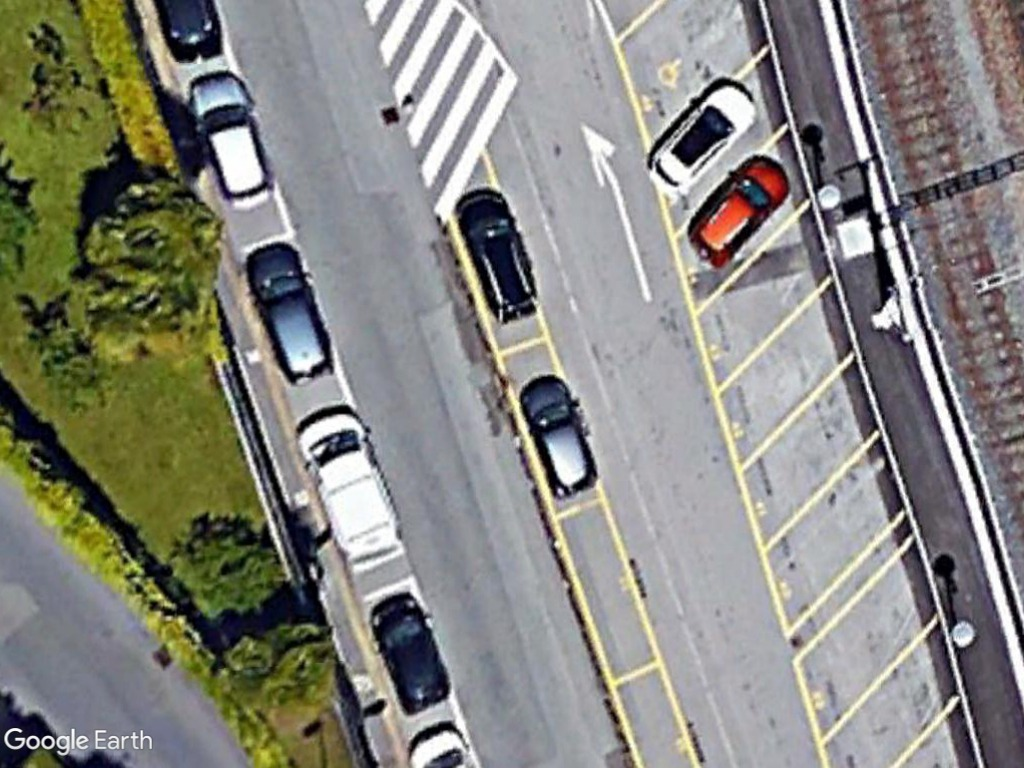car: (649, 74, 763, 198), (245, 242, 339, 387), (188, 72, 279, 210), (688, 150, 790, 270), (516, 374, 602, 500), (370, 598, 456, 718)
truck: (294, 404, 405, 575)
